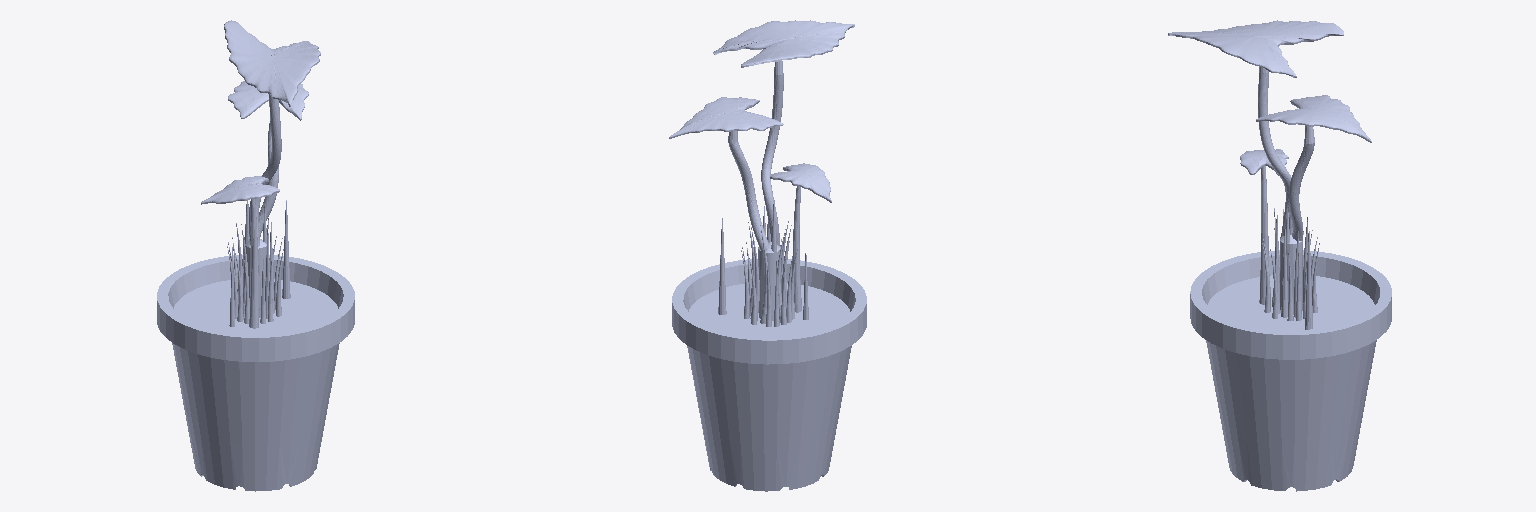
robot.urdf — plant_pot:
<robot
  name="plant_pot">
  <link
    name="plant_pot">
    <inertial>
      <origin
        xyz="0.00032589 -0.000706459999999989 0.18804"
        rpy="0 0 0" />
      <mass
        value="14.914" />
      <inertia
        ixx="0.274948914289053"
        ixy="0.000423426553657998"
        ixz="0.00239430979497938"
        iyy="0.274188081934919"
        iyz="0.00562655424219606"
        izz="0.13484085030266" />
    </inertial>
    <visual>
      <origin
        xyz="0 0 0"
        rpy="0 0 0" />
      <geometry>
        <mesh
          filename="package://plant_pot/meshes/plant_pot.dae" />
      </geometry>
      <material
        name="">
        <color
          rgba="0.79216 0.81961 0.93333 1" />
      </material>
    </visual>
    <collision>
      <origin
        xyz="0 0 0"
        rpy="0 0 0" />
      <geometry>
        <mesh
          filename="package://plant_pot/meshes/plant_pot.dae" />
      </geometry>
    </collision>
  </link>
</robot>

--- Facts derived from the render (not from the file) ---
The picture shows the robot from 3 angles, left to right: view 1: azimuth 30°, elevation 25°; view 2: azimuth 150°, elevation 25°; view 3: azimuth 270°, elevation 25°; orthographic projection.
Model plant_pot with 1 links and 0 joints (none), rooted at plant_pot, posed every joint at zero.
Links seen in each view (by area): view 1: plant_pot; view 2: plant_pot; view 3: plant_pot.
Boxes of the visible links, x1,y1,x2,y2 form: plant_pot: [157, 20, 354, 491]; plant_pot: [669, 20, 866, 491]; plant_pot: [1168, 20, 1391, 491].
Bounding box of the posed robot: 0.3291 × 0.367 × 0.7867 m (x, y, z).
Meshes: 1 distinct files referenced, 1 mesh visuals loaded (1 Collada DAE).